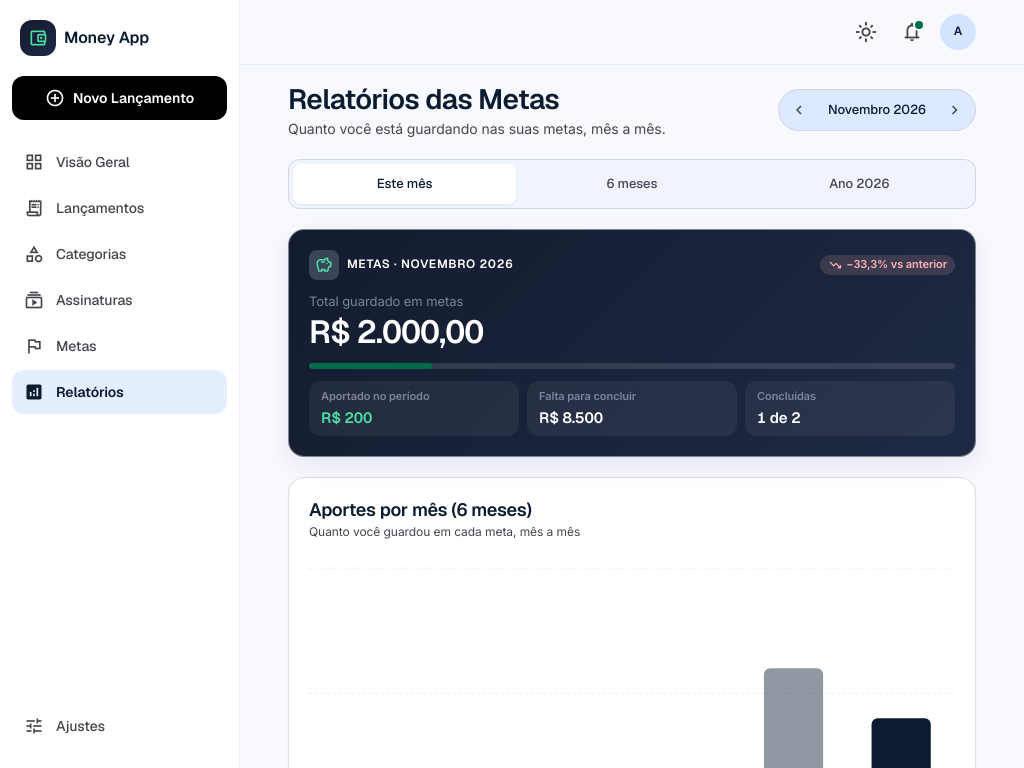
Test: Gráficos centrados nas metas › mostra resumo, aportes por mês, evolução, distribuição e progresso de cada meta
Expected: the heading "Relatórios das Metas" is shown, [288,81,559,117]
Expected: the text "R$ 2.000,00" is shown, [309,311,483,352]
// O intervalo selecionado muda o "aportado no período".
Click the radio button labelled "6 meses".
click(632, 184)  # box [520,164,744,204]
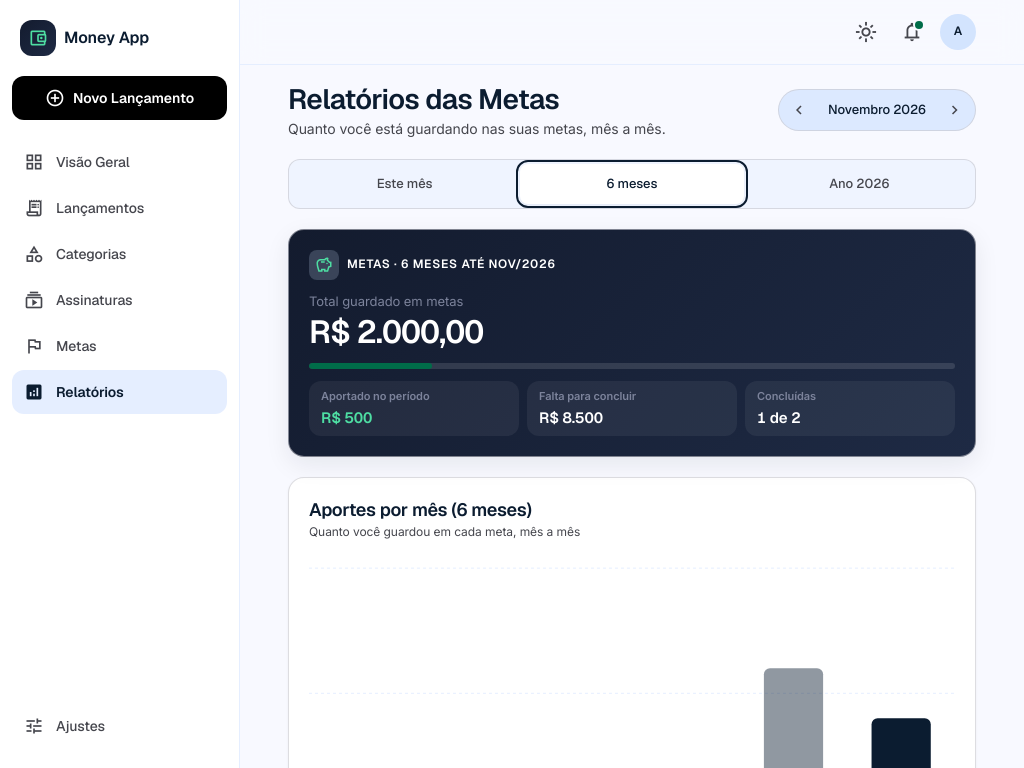
Now the text "R$ 500" is shown, box [321,408,372,427]
Now the text "vs anterior" is gone
